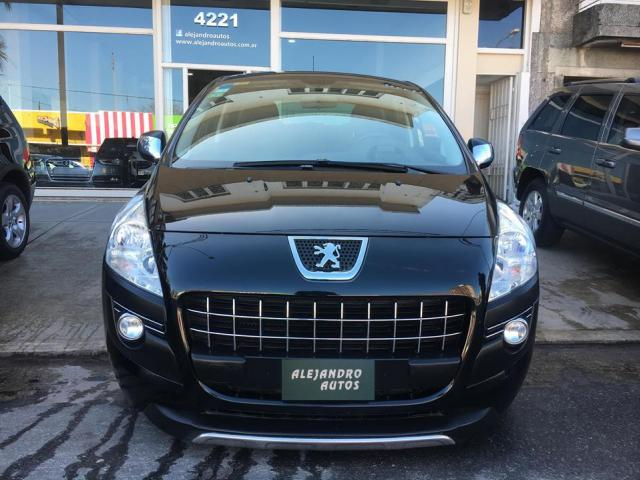car: (102, 71, 543, 454), (516, 84, 640, 261), (1, 94, 37, 254)
